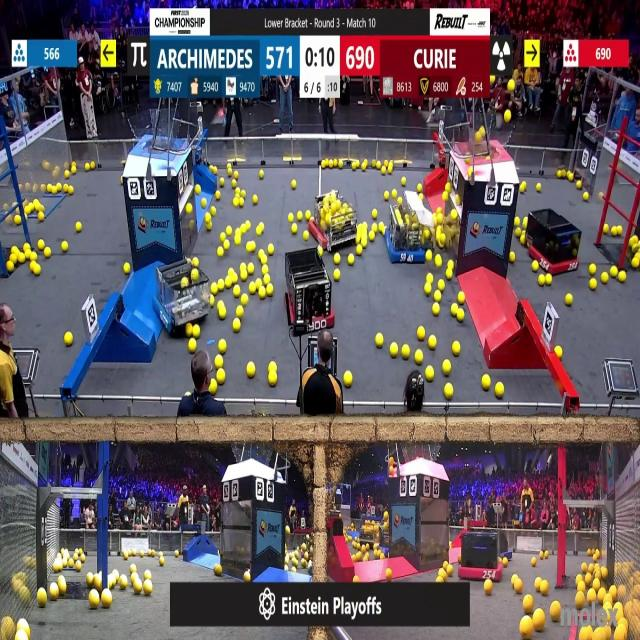ball_airborne: (507, 80, 514, 91), (504, 110, 510, 122), (480, 128, 486, 140), (475, 133, 481, 143), (490, 75, 496, 83)
ball_ground: (532, 612, 544, 632), (521, 618, 533, 638), (552, 601, 562, 621), (90, 592, 101, 609), (34, 588, 44, 606), (101, 592, 112, 608), (523, 596, 533, 613), (514, 579, 524, 595), (575, 593, 584, 609), (59, 580, 68, 596), (94, 574, 103, 589), (345, 372, 353, 388), (143, 582, 152, 596), (445, 384, 454, 398), (134, 582, 143, 596), (65, 334, 74, 347), (390, 344, 398, 358), (247, 362, 255, 376), (426, 366, 434, 380), (444, 360, 452, 374), (495, 383, 503, 397), (483, 376, 491, 390), (416, 350, 424, 364), (540, 582, 548, 596), (484, 582, 492, 596), (588, 590, 596, 604), (578, 629, 588, 640), (453, 342, 460, 357), (215, 355, 223, 368), (418, 326, 426, 339), (218, 307, 226, 320), (234, 319, 242, 332), (218, 341, 226, 354), (210, 381, 218, 394), (428, 338, 436, 351), (377, 334, 384, 348), (217, 368, 224, 382), (401, 346, 409, 358), (270, 374, 278, 386), (119, 576, 127, 588), (192, 325, 199, 338), (188, 340, 195, 353), (185, 324, 192, 337), (88, 572, 95, 585), (601, 273, 609, 284), (214, 564, 222, 575), (247, 242, 255, 253), (432, 304, 439, 316), (620, 271, 627, 283), (434, 254, 441, 266), (258, 287, 265, 299), (237, 307, 244, 319), (34, 265, 41, 277), (556, 347, 563, 359), (244, 571, 252, 581), (576, 583, 584, 593), (458, 292, 465, 303), (348, 253, 355, 264), (452, 305, 459, 316), (242, 294, 249, 305), (457, 310, 464, 321), (62, 242, 69, 253), (544, 275, 551, 286), (424, 284, 431, 295), (439, 280, 446, 291), (610, 268, 617, 279), (211, 283, 218, 294), (270, 361, 277, 372), (632, 257, 639, 268), (426, 250, 433, 261), (256, 222, 263, 233), (123, 264, 129, 276), (268, 284, 274, 296), (566, 293, 572, 305), (335, 270, 341, 282), (434, 290, 440, 302), (218, 280, 224, 292), (436, 214, 442, 226), (108, 578, 114, 590), (426, 274, 433, 284), (185, 204, 192, 214), (249, 284, 256, 294), (17, 253, 24, 263), (507, 252, 514, 262), (37, 212, 44, 222), (447, 566, 454, 576), (233, 274, 240, 284), (235, 285, 241, 296), (591, 279, 597, 290), (590, 265, 596, 276), (248, 265, 254, 276), (618, 224, 624, 235), (75, 561, 81, 572), (435, 574, 443, 582), (66, 184, 73, 193), (241, 223, 248, 232), (354, 554, 361, 563), (76, 221, 82, 231), (270, 245, 276, 255), (291, 223, 297, 233), (218, 247, 224, 257), (532, 263, 538, 273), (304, 232, 310, 242), (44, 248, 50, 258), (335, 254, 341, 264), (603, 223, 609, 233), (7, 263, 13, 273), (241, 272, 247, 282), (223, 240, 229, 250), (538, 276, 544, 286), (38, 240, 44, 250), (144, 569, 150, 579), (265, 275, 271, 285), (191, 257, 197, 267), (452, 210, 458, 220), (258, 249, 264, 259), (516, 217, 522, 227), (380, 222, 386, 232), (224, 278, 230, 288), (252, 196, 258, 206), (306, 210, 312, 220), (610, 225, 616, 235), (25, 243, 31, 253), (263, 254, 269, 264), (580, 563, 586, 573), (352, 162, 358, 172), (31, 252, 38, 260), (210, 294, 215, 305), (194, 184, 200, 193), (584, 191, 590, 200), (356, 246, 362, 255), (236, 237, 242, 246), (447, 271, 453, 280), (384, 190, 390, 199), (225, 226, 231, 235), (234, 199, 240, 208), (264, 267, 270, 276), (256, 279, 262, 288), (361, 163, 367, 172), (445, 183, 451, 192), (284, 558, 290, 567), (387, 568, 392, 578), (371, 209, 376, 219), (521, 182, 526, 192), (296, 211, 301, 221), (568, 172, 573, 182), (432, 214, 437, 224), (523, 217, 528, 227), (8, 254, 15, 261), (448, 262, 454, 270), (206, 222, 212, 230), (220, 234, 226, 242), (318, 248, 324, 256), (391, 189, 397, 197), (502, 558, 508, 566), (240, 190, 246, 198), (226, 168, 232, 176), (575, 574, 581, 582), (11, 246, 17, 254), (206, 214, 212, 222), (557, 170, 563, 178), (397, 198, 403, 206), (227, 269, 233, 277), (46, 184, 52, 192), (363, 554, 369, 562), (376, 162, 382, 170), (400, 177, 405, 186), (288, 213, 293, 222), (444, 191, 449, 200), (215, 190, 220, 199), (368, 233, 373, 242), (161, 558, 166, 567), (371, 222, 376, 231), (521, 237, 526, 246), (361, 239, 366, 248), (514, 226, 519, 235), (353, 575, 359, 582), (132, 565, 138, 572), (291, 180, 296, 188), (219, 178, 224, 186), (259, 170, 263, 180), (388, 167, 393, 175), (84, 163, 89, 171), (65, 171, 70, 179), (92, 162, 97, 170), (381, 168, 386, 176), (14, 216, 19, 224), (212, 166, 217, 174), (444, 561, 449, 569), (58, 183, 63, 191), (539, 552, 544, 560), (362, 221, 367, 229), (418, 183, 422, 192), (536, 183, 540, 192), (240, 199, 244, 208), (290, 567, 296, 573), (435, 209, 441, 215), (340, 161, 344, 170), (419, 192, 424, 199), (211, 208, 216, 215), (241, 265, 246, 272), (233, 180, 238, 187), (123, 554, 128, 561), (532, 558, 536, 566), (203, 200, 207, 208), (576, 181, 580, 189), (175, 552, 180, 558), (381, 555, 386, 561), (234, 172, 239, 178), (140, 552, 145, 558), (72, 168, 76, 175)
goal: (461, 119, 517, 160), (128, 115, 186, 151)
robot_blue: (155, 255, 214, 335), (388, 202, 434, 262)
robot_red: (285, 249, 335, 326), (528, 211, 582, 275), (312, 193, 359, 252), (459, 526, 505, 581)
